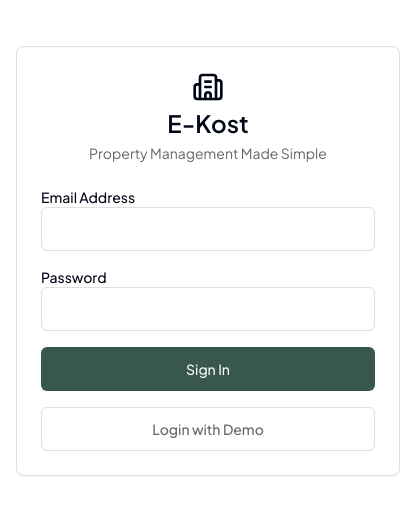
Test: LoginForm › bad cases › shows server error when login fails
In the field labelled "Email Address": (208, 229) top-left (41, 207), bottom-right (375, 251), type "john@example.com"
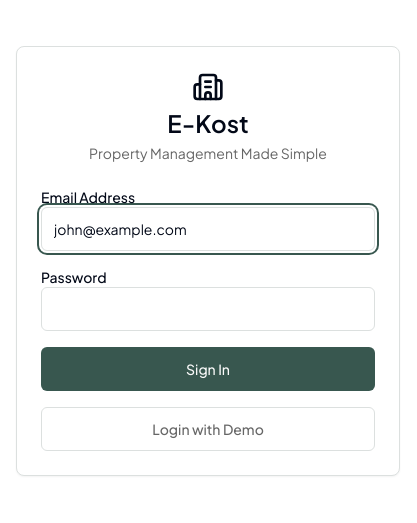
In the password field labelled "Password": (208, 309) top-left (41, 287), bottom-right (375, 331), type "wrongpassword"
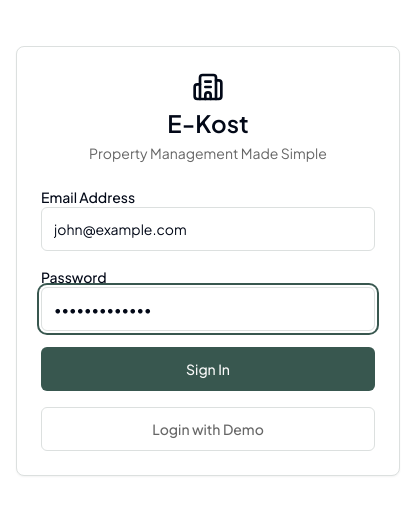
Click the button "Sign In": (208, 369) top-left (41, 347), bottom-right (375, 391)
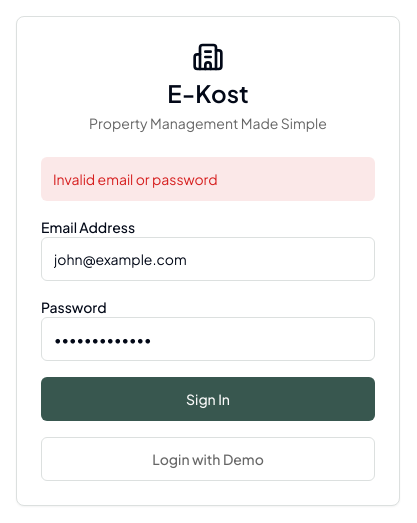
Now the text "Invalid email or password" is shown, box top-left (41, 157), bottom-right (375, 201)
